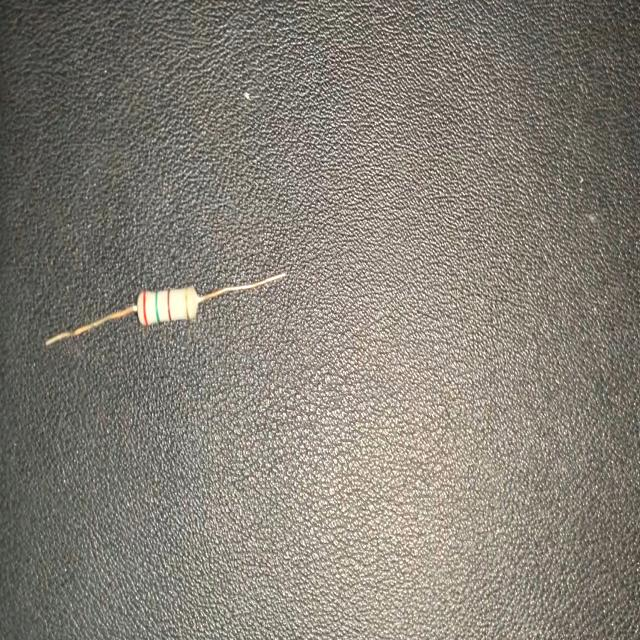resistor: (46, 272, 288, 346)
